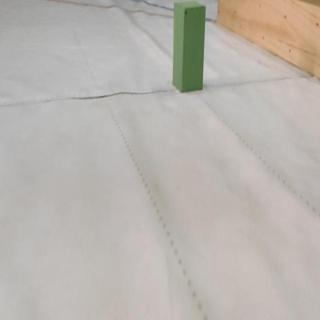greenbox: (171, 3, 206, 92)
